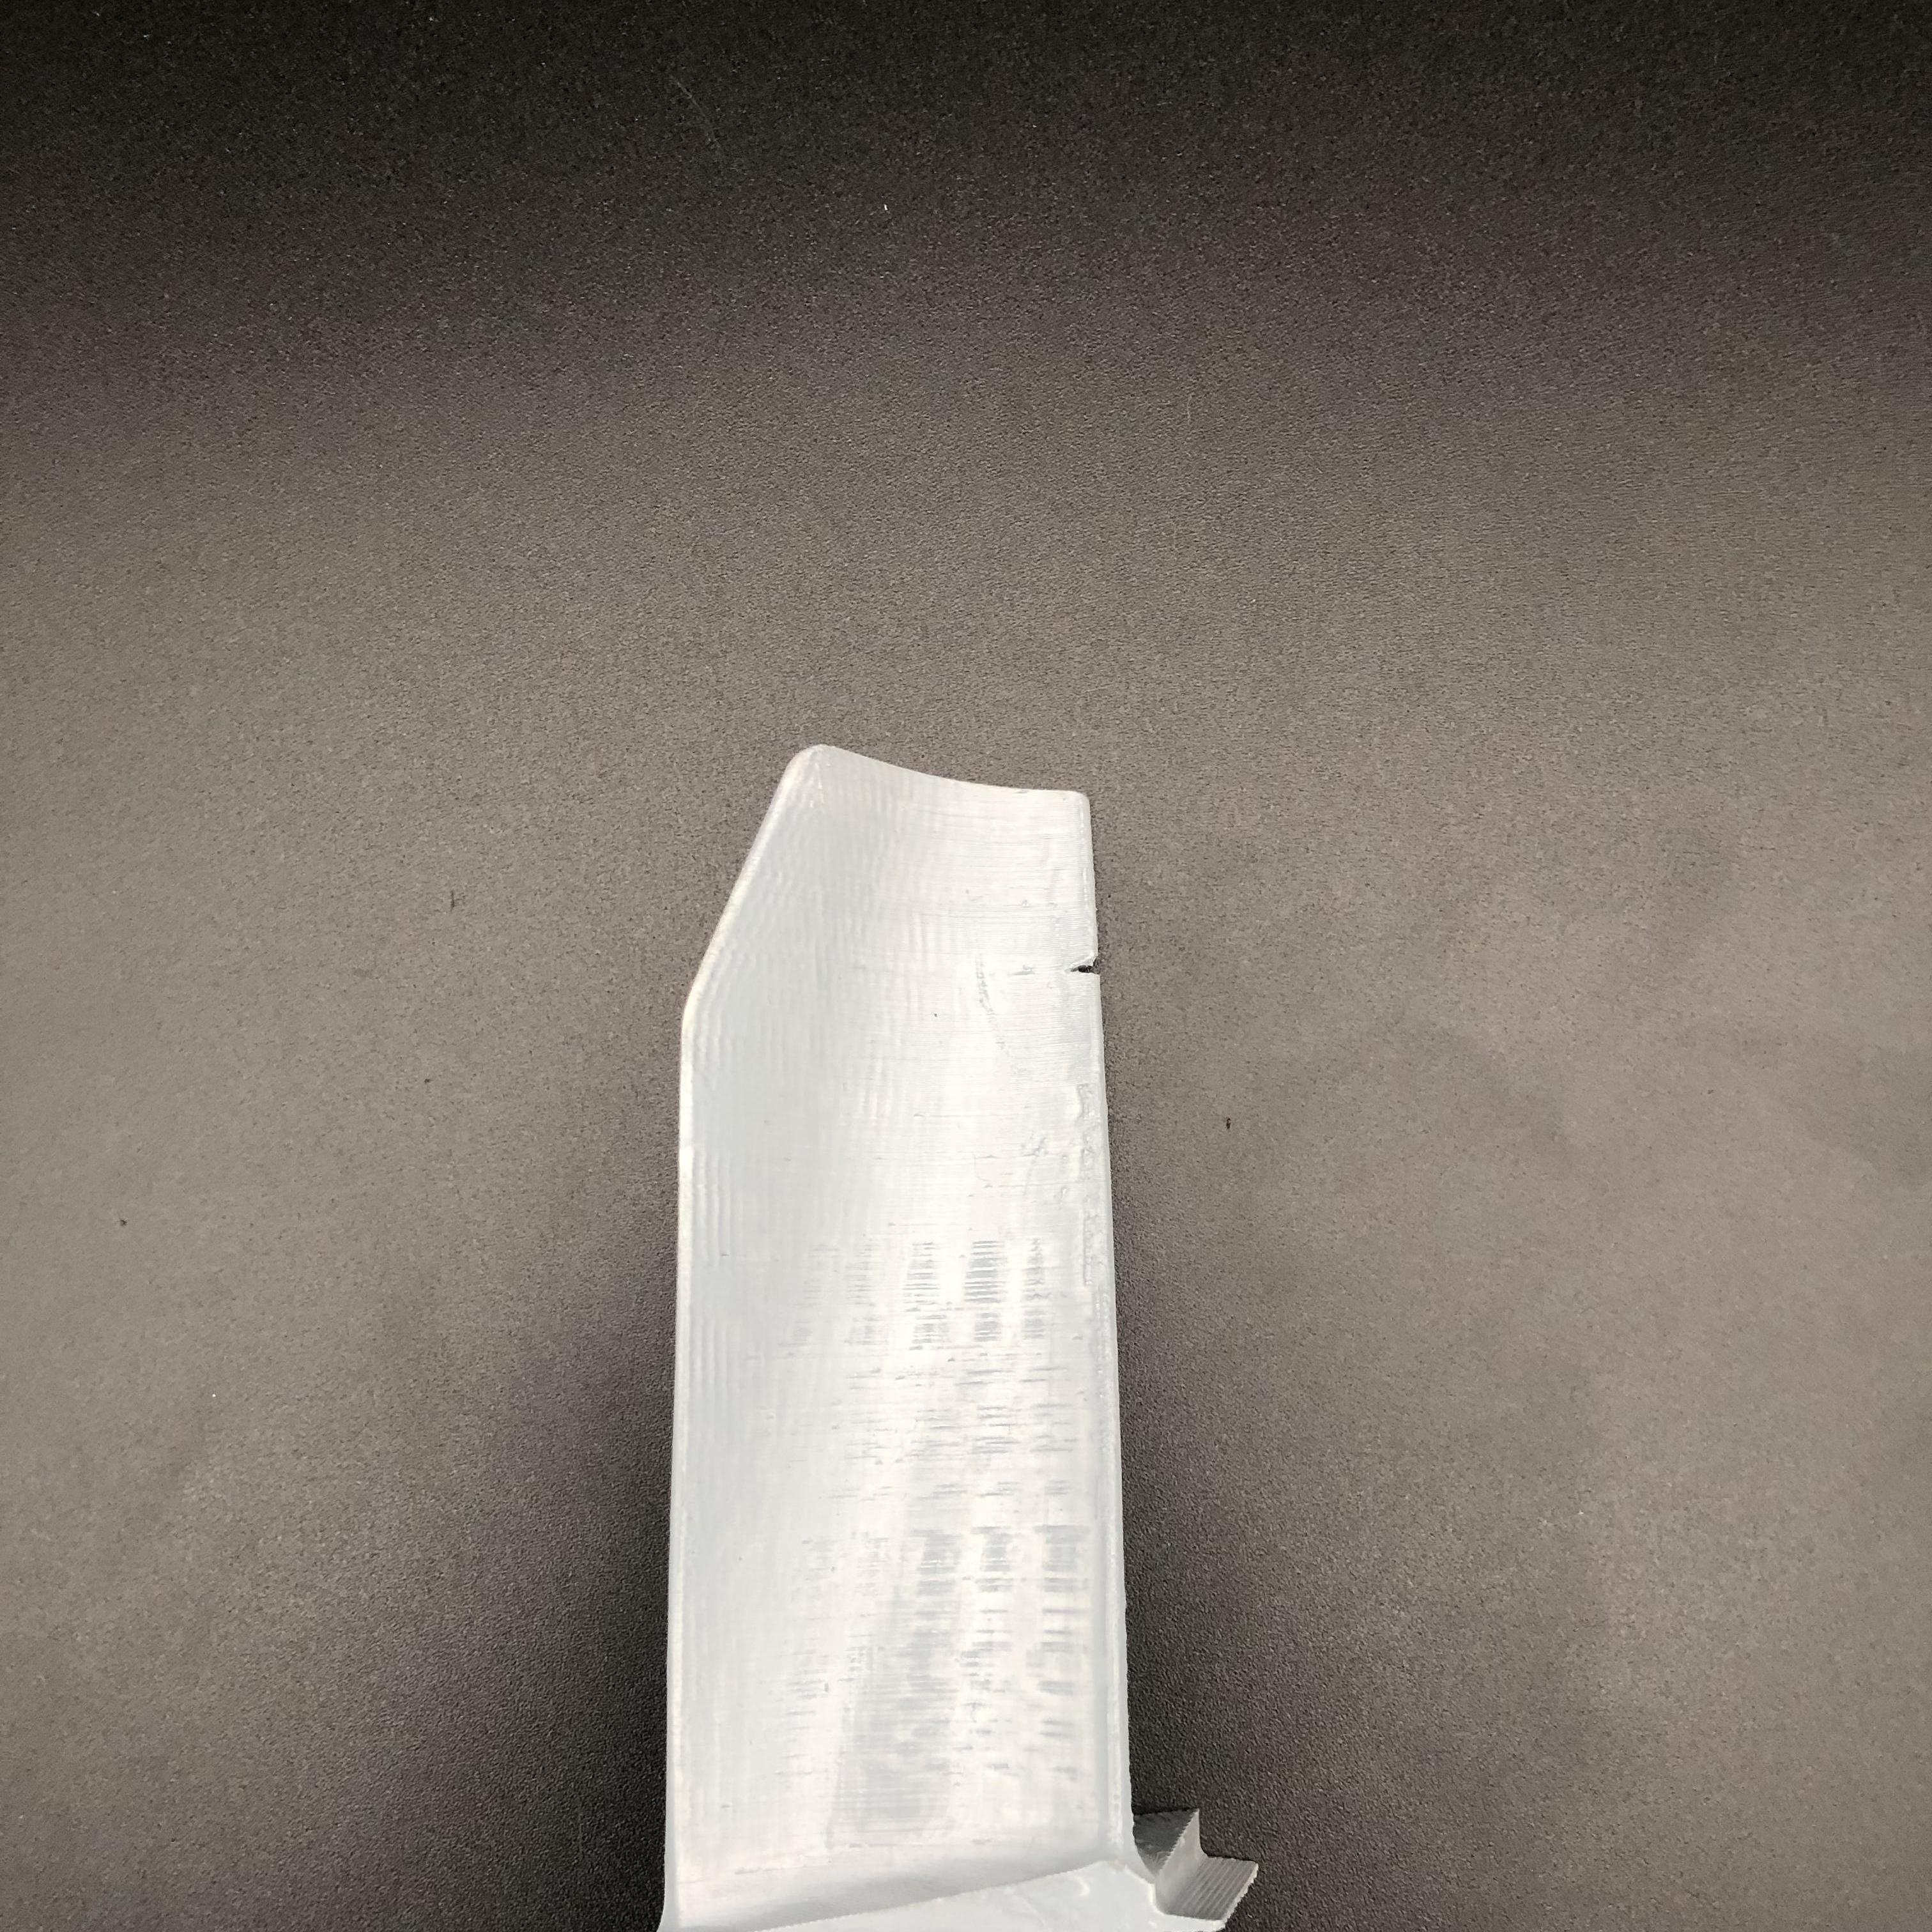groove: (1070, 950, 1104, 994)
